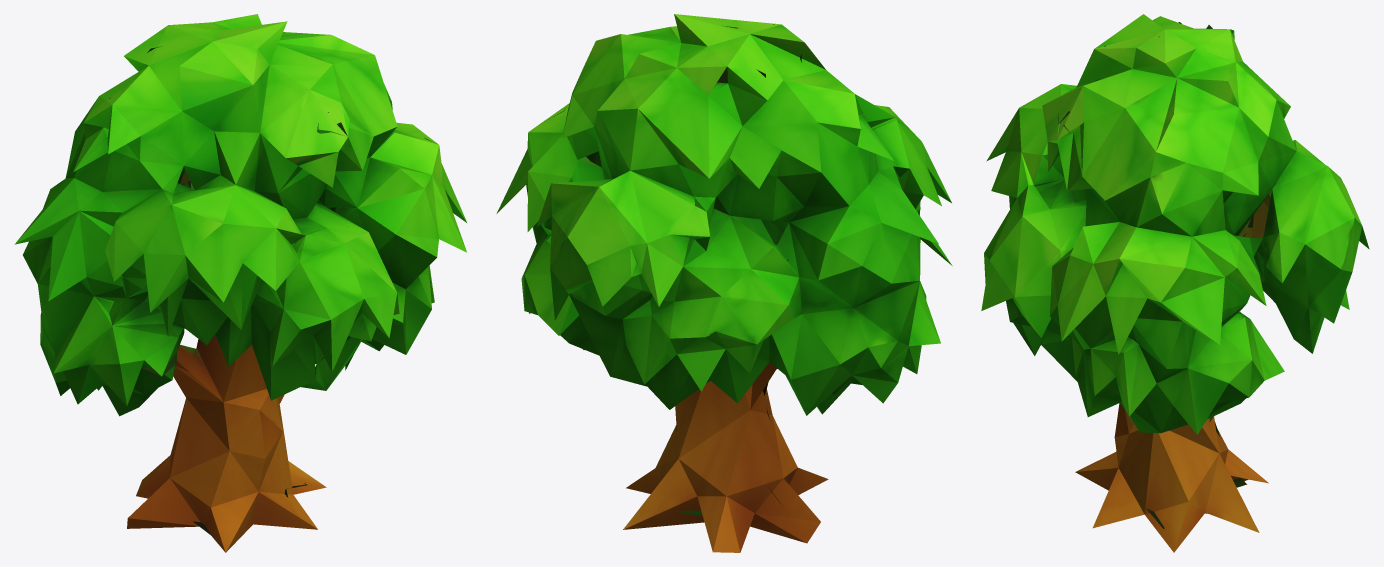
File: round_tree.glb
3 renders of one model, left to right at view 1: azimuth 30°, elevation 25°; view 2: azimuth 150°, elevation 25°; view 3: azimuth 270°, elevation 25°, orthographic. The views are drawn at different scales.
Visible parts, largest first — view 1: geometry_0; view 2: geometry_0; view 3: geometry_0.
Part boxes in pixels (x1,y1,x2,y2): geometry_0: (14, 14, 466, 552); geometry_0: (496, 14, 952, 552); geometry_0: (981, 14, 1369, 552).
Size of the model in its own units: 0.9053 by 0.9824 by 0.7342.
Materials: 1 (1 with a texture image).
